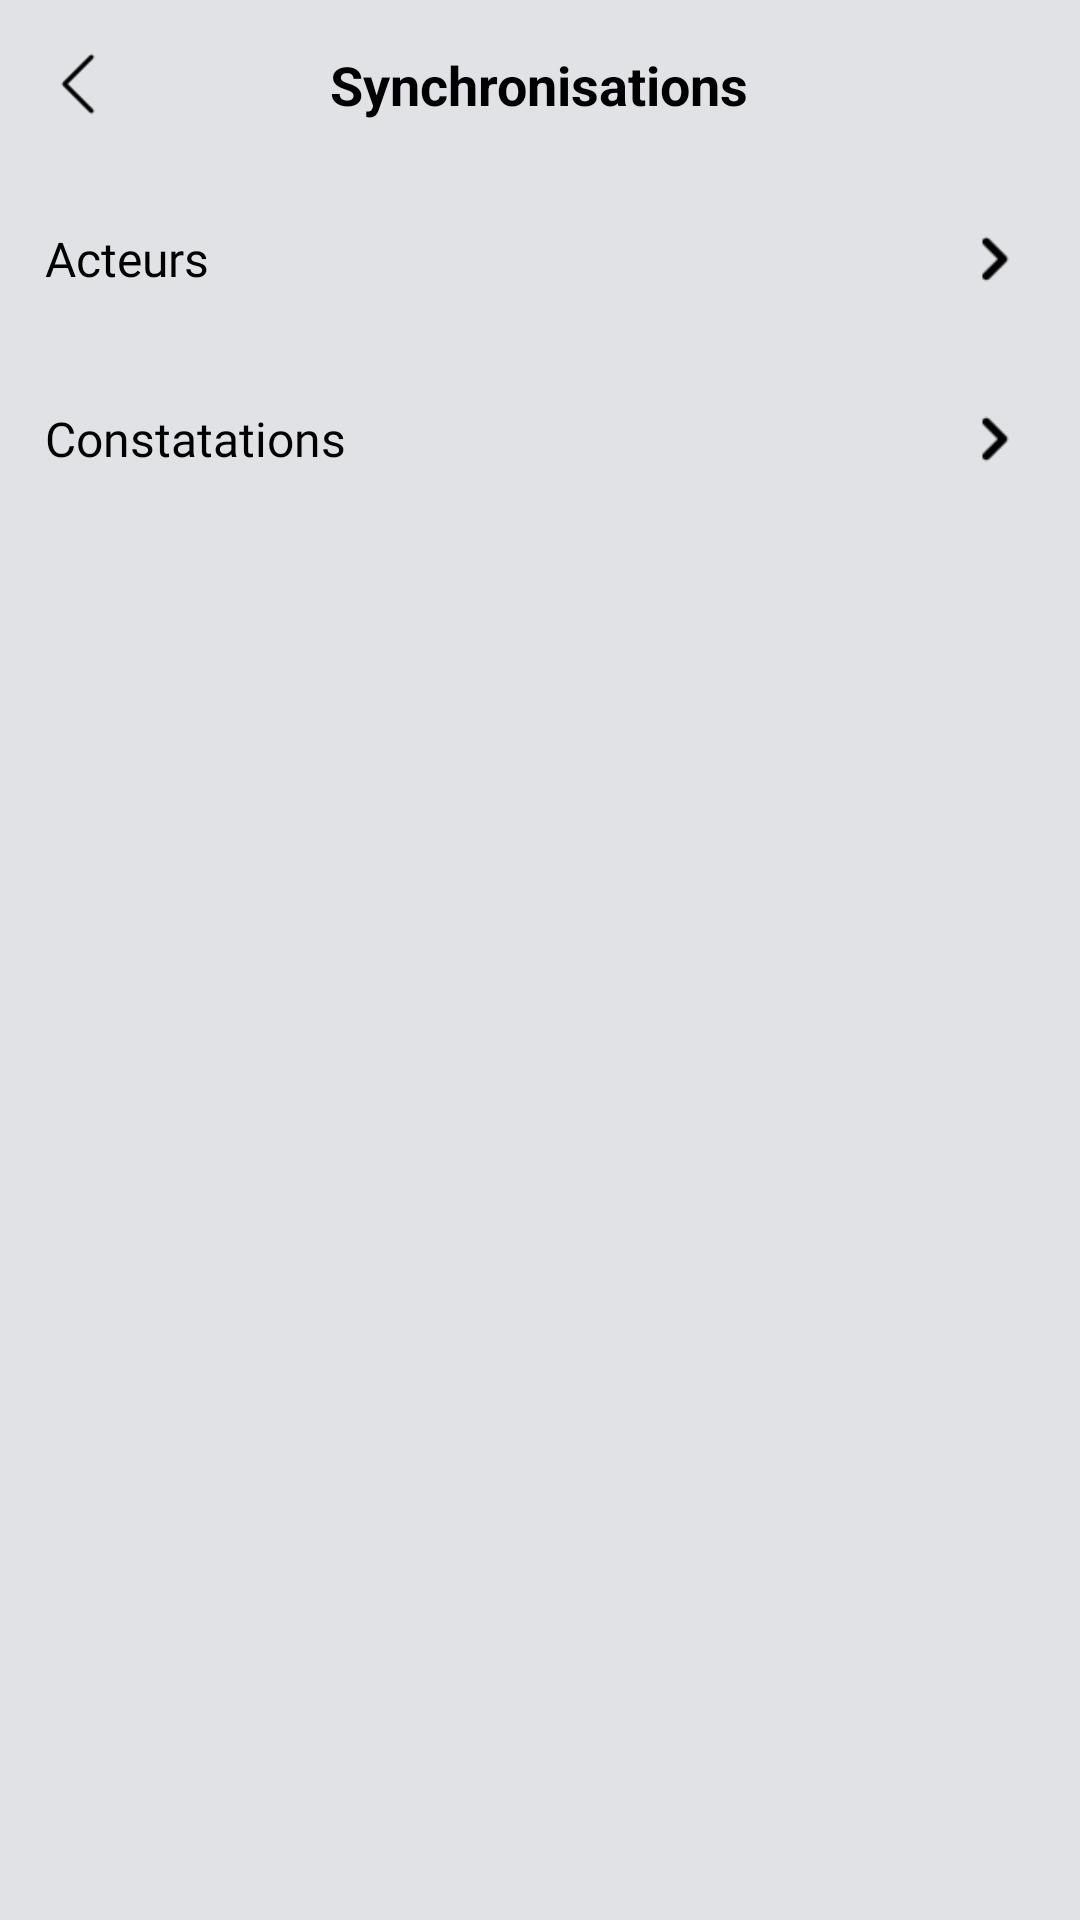

Locate icon controls on the screen. Image size 1080 × 1920, boxes as (left=x1, top=y1, right=x2, bottom=y2).
back: (left=61, top=54, right=95, bottom=114)
key right: (left=982, top=237, right=1009, bottom=281), (left=982, top=417, right=1009, bottom=461)
